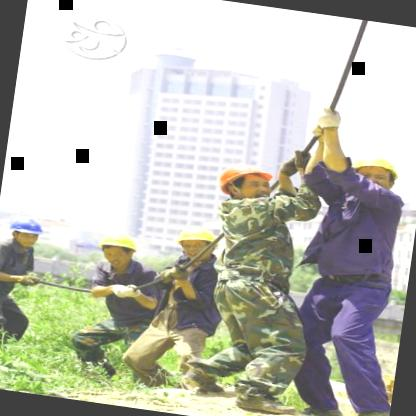helmet: (210, 156, 282, 206), (92, 224, 144, 271), (348, 148, 406, 190), (170, 217, 222, 262), (5, 213, 48, 250)
